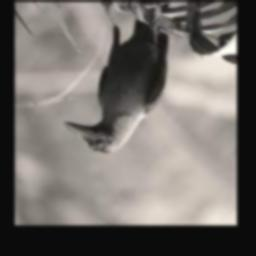Crow: (63, 3, 169, 155)
